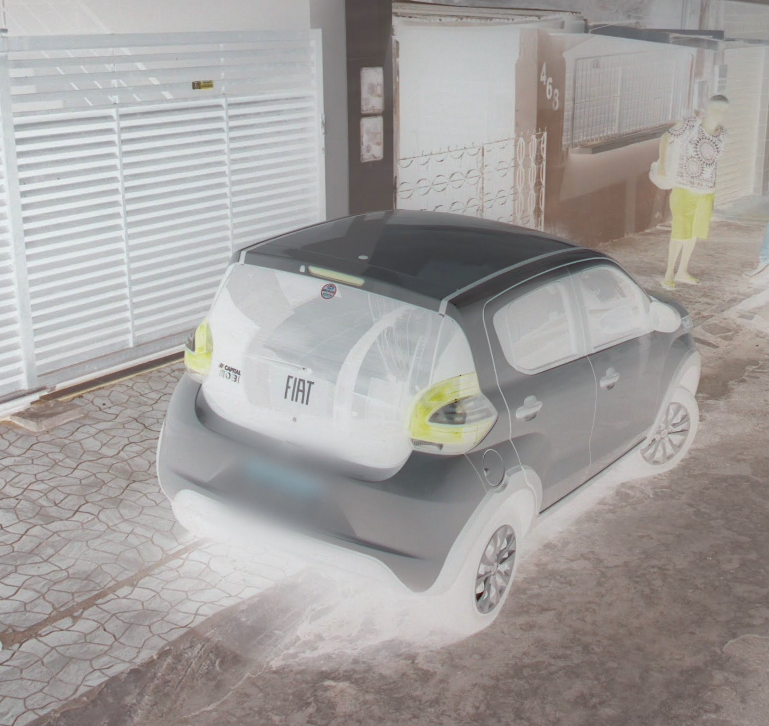car: (154, 207, 701, 628)
